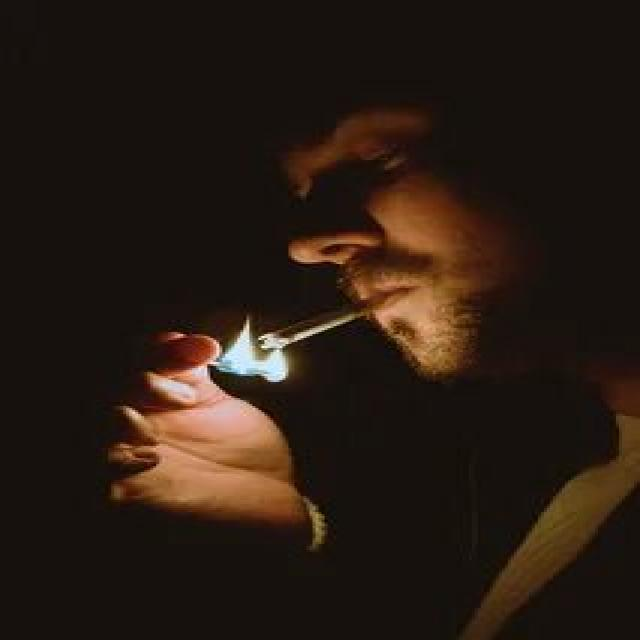smoke: (250, 294, 384, 354)
